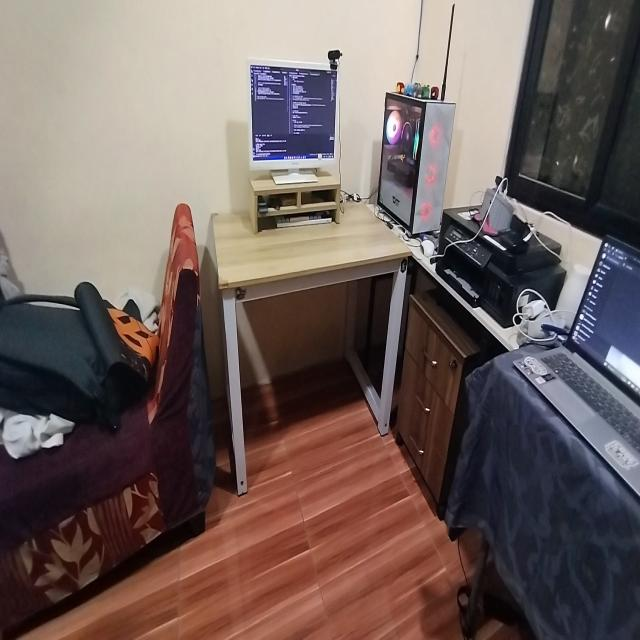table: (208, 200, 412, 484)
